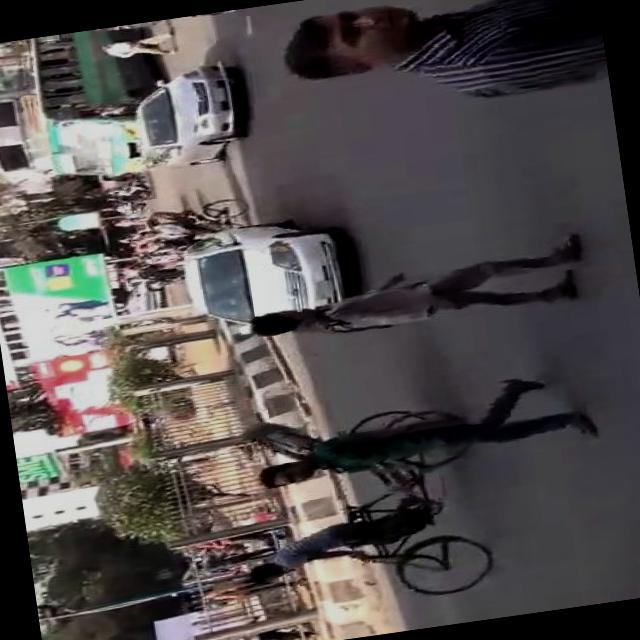bus: (24, 24, 172, 190)
car: (177, 206, 360, 343), (122, 60, 253, 178), (118, 276, 168, 314)
motorcycle: (238, 394, 499, 624), (141, 195, 253, 256), (109, 178, 158, 206)
